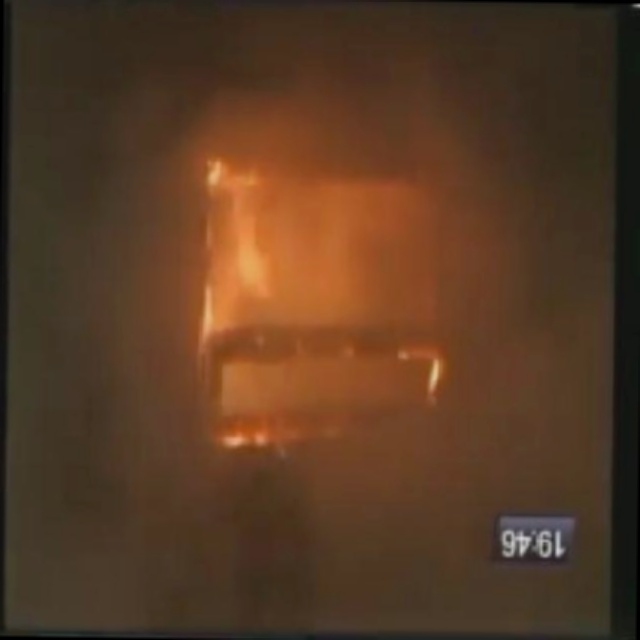fire: (173, 137, 506, 495)
